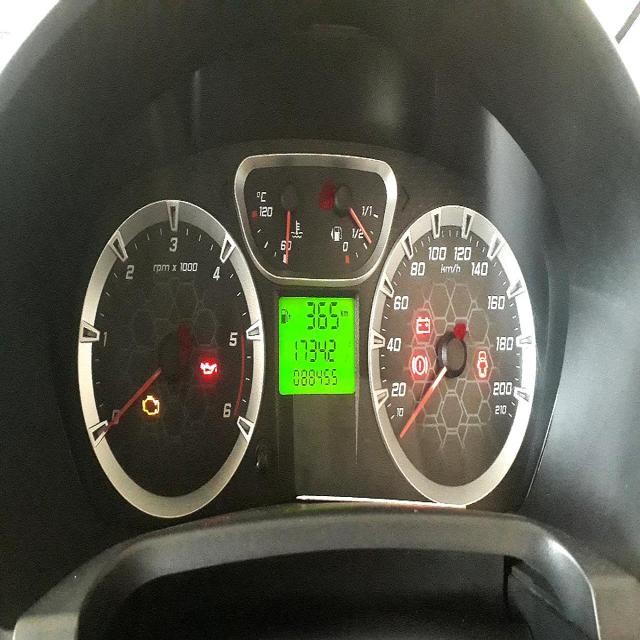odometer: (292, 366, 338, 388)
